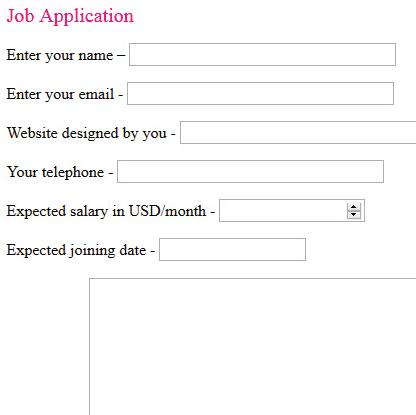field: (126, 80, 397, 107), (127, 41, 396, 68), (114, 159, 386, 184), (157, 236, 308, 263), (217, 197, 369, 223)
field_with_label: (6, 39, 399, 69), (6, 79, 400, 108), (6, 157, 387, 184), (5, 195, 370, 223), (5, 236, 308, 265)
